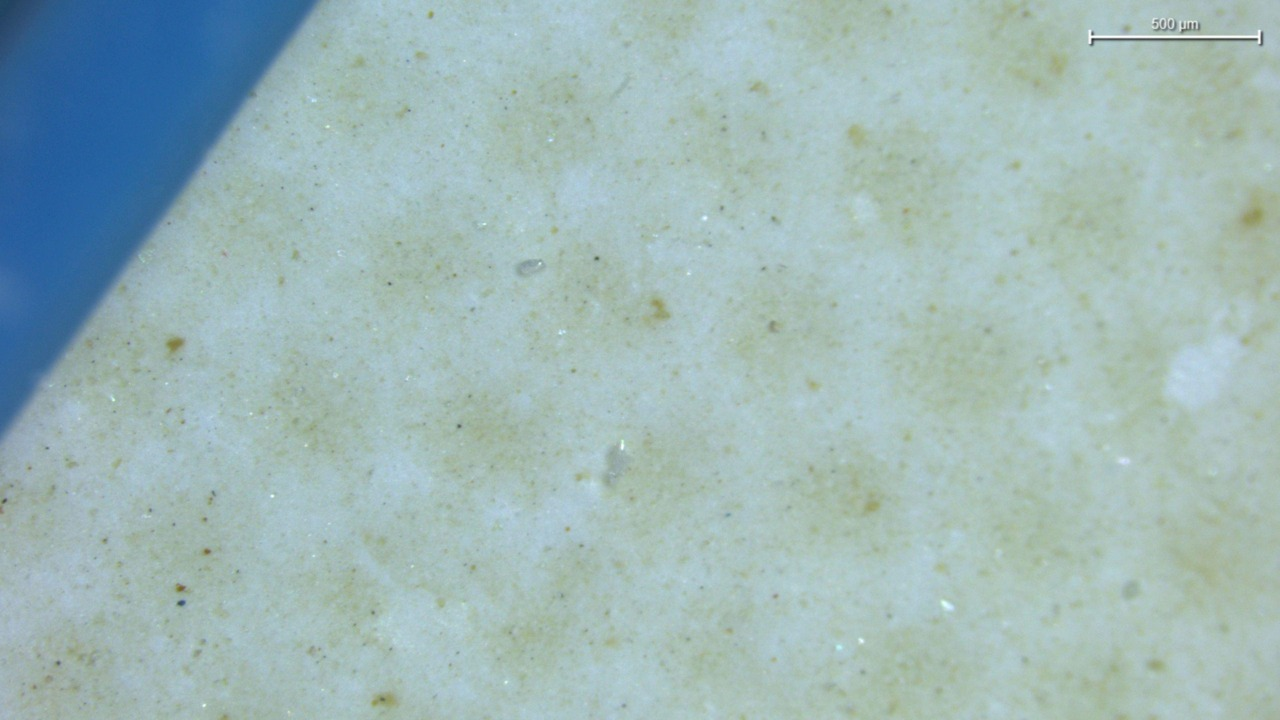microplastic_fragment: (601, 440, 631, 487), (516, 259, 545, 276)
